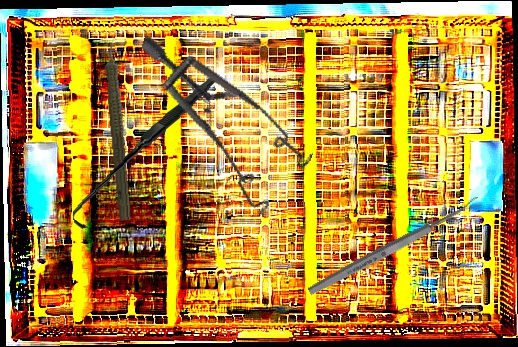Handpiece: (99, 29, 139, 222)
Hook Surgical: (64, 77, 226, 230)
Speculum: (103, 34, 332, 226)
Surgical Spoon: (306, 195, 483, 298)
